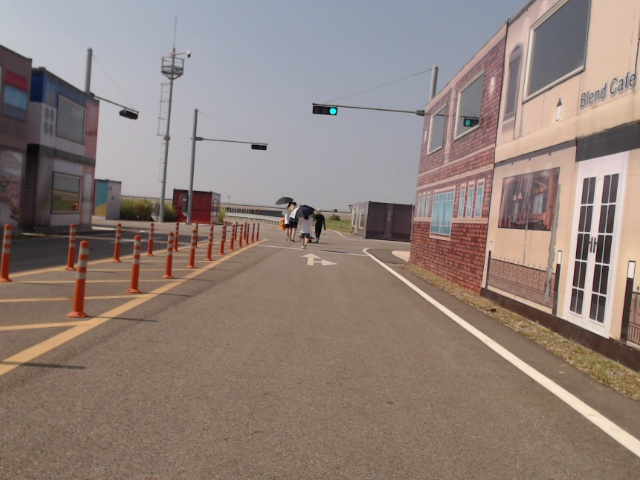green_3: (312, 105, 337, 116)
